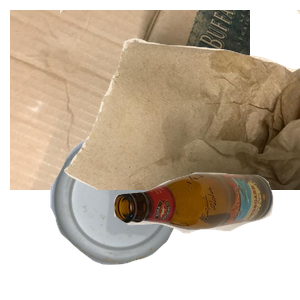cardboard: (10, 10, 250, 190)
glass: (111, 170, 300, 300)
plastic: (48, 132, 224, 300)
trash: (60, 10, 300, 190)
